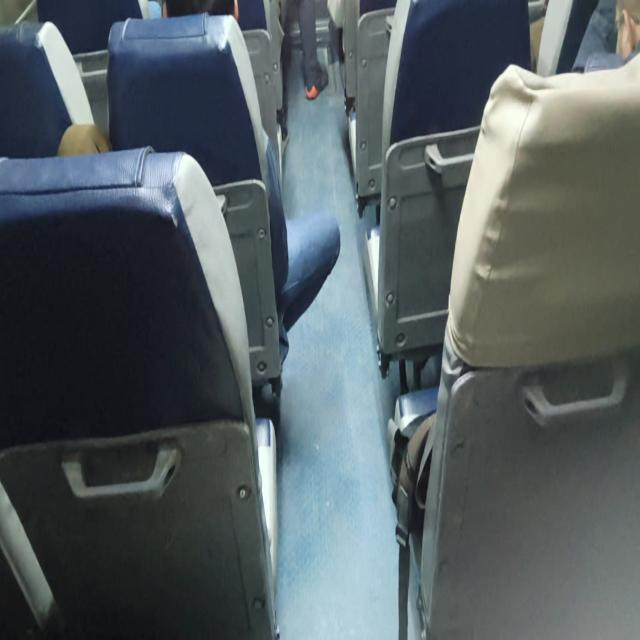person: (151, 0, 259, 47), (591, 0, 640, 91)
